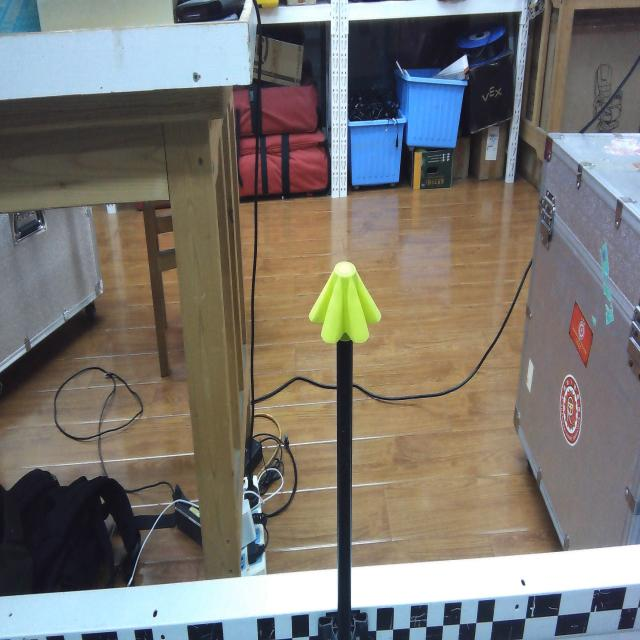Yellow-Stake-Head: (308, 261, 382, 343)
